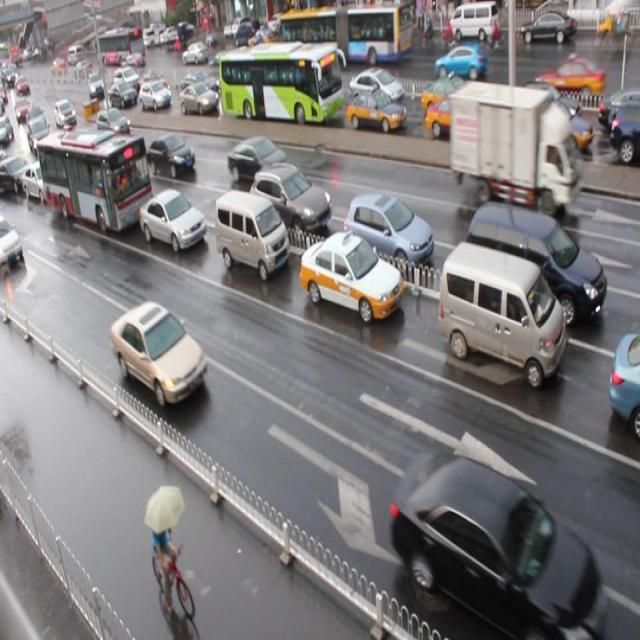BigCar: (452, 67, 577, 219), (36, 126, 148, 235), (225, 51, 344, 120)
car: (412, 437, 598, 625), (441, 242, 556, 373), (108, 292, 199, 417), (305, 235, 404, 335), (335, 182, 426, 260), (255, 153, 346, 230), (221, 178, 277, 293), (128, 186, 204, 250), (345, 89, 406, 150), (154, 141, 198, 179)
